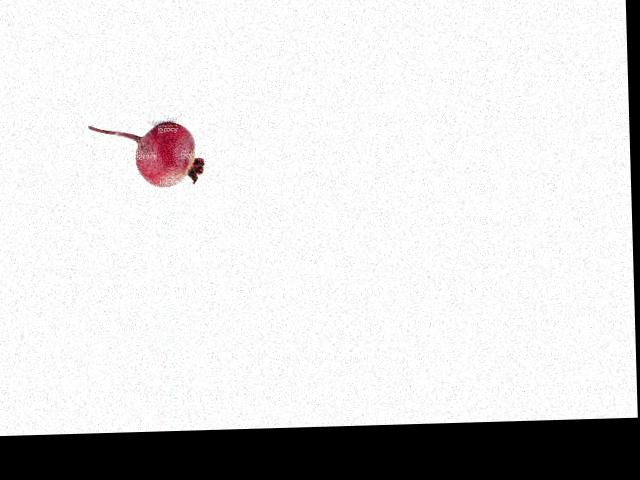beet: (89, 120, 205, 188)
